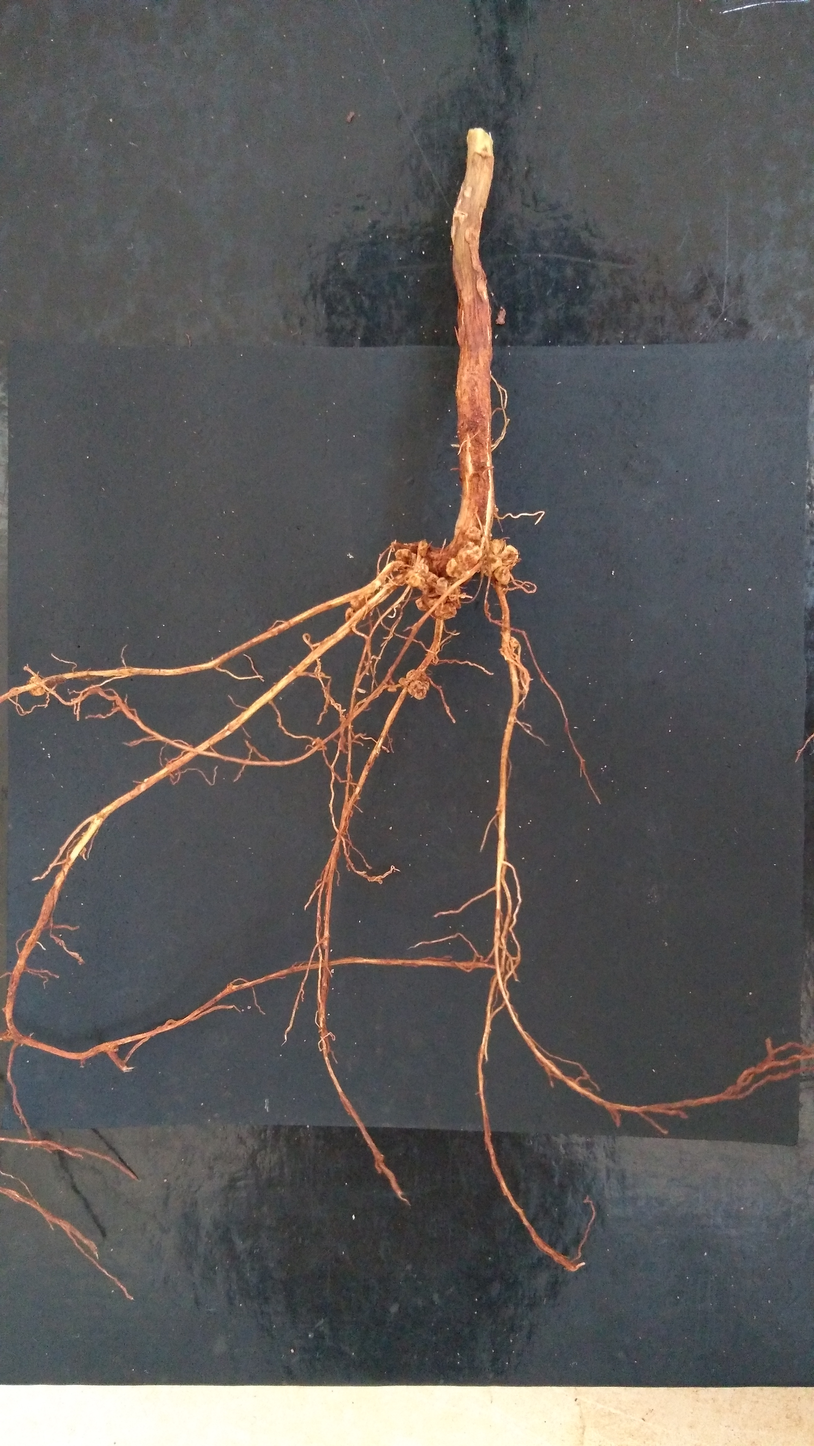nodule: (482, 554, 510, 585), (457, 541, 483, 569), (490, 539, 518, 565), (406, 669, 429, 700), (350, 593, 374, 620), (428, 598, 457, 620), (435, 578, 461, 600), (446, 557, 470, 579), (408, 563, 429, 587), (500, 638, 519, 659), (395, 548, 416, 566), (29, 676, 45, 696), (447, 587, 461, 609), (415, 596, 433, 611), (465, 526, 482, 540), (418, 541, 428, 557), (345, 607, 353, 622), (387, 687, 397, 692)
